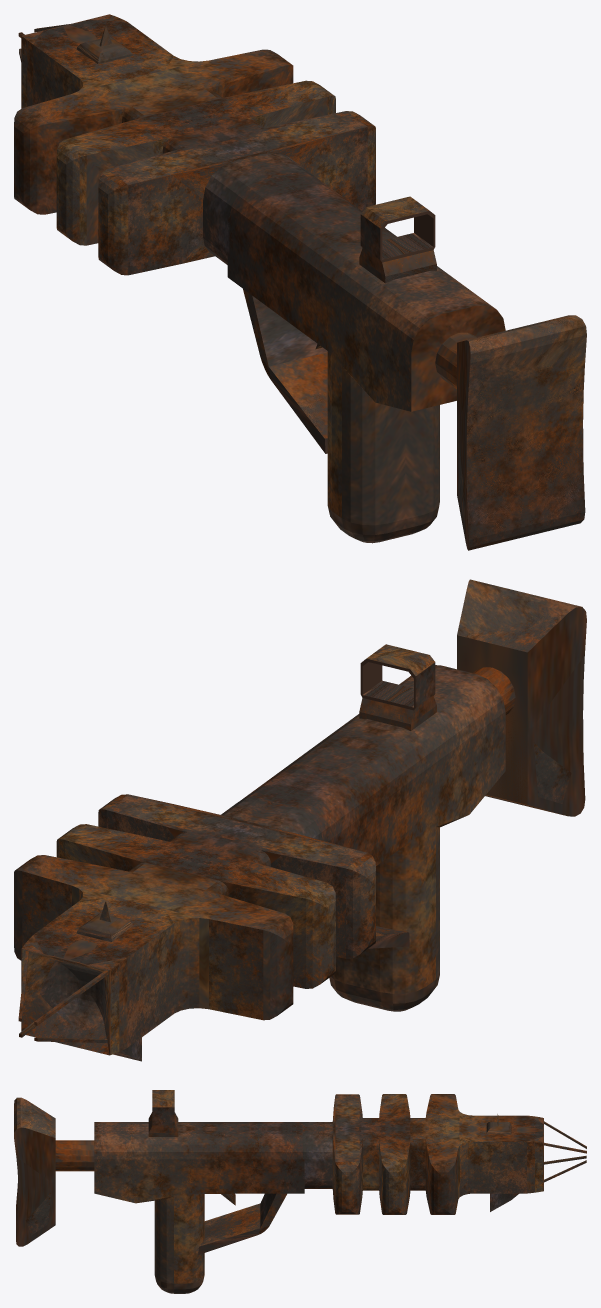
File: laser rifle2.fbx
3 views of the same model, one above another, from view 1: azimuth 30°, elevation 25°; view 2: azimuth 150°, elevation 25°; view 3: azimuth 270°, elevation 25° (orthographic). The views are drawn at different scales.
Parts seen in each view (by area): view 1: Cube; view 2: Cube; view 3: Cube.
Boxes of the visible parts, bbox=[...] form: Cube: bbox=[14, 14, 586, 550]; Cube: bbox=[14, 579, 586, 1061]; Cube: bbox=[14, 1090, 586, 1293].
Size of the model in its own units: 579 by 676 by 1844.
